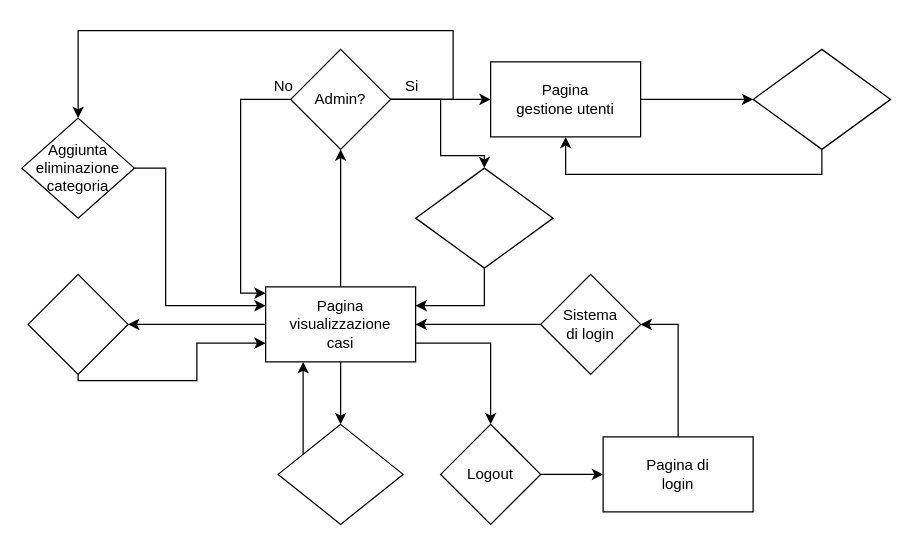
Some shapes in this 913 by 546 pixel diagram are drawn without their labels. Each missing label, with the box of its shape:
Aggiunta o rimozione utente: (752, 48, 891, 149)
Modifica o eliminazione caso: (414, 167, 553, 268)
Sistema aggiunta caso: (27, 273, 128, 374)
Sistema di ricerca: (277, 423, 403, 524)
